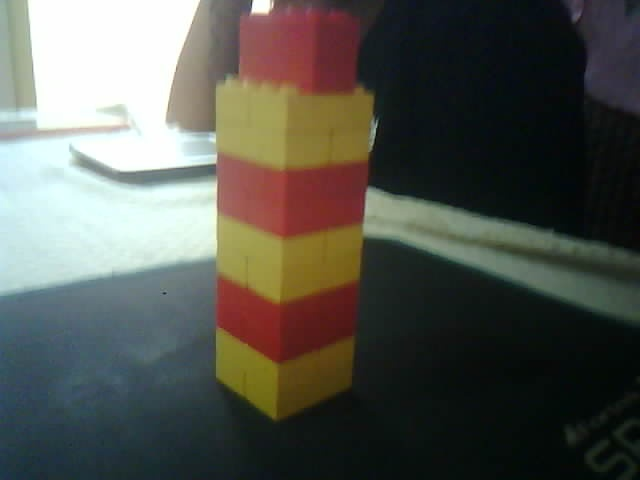lego: (213, 7, 376, 423)
